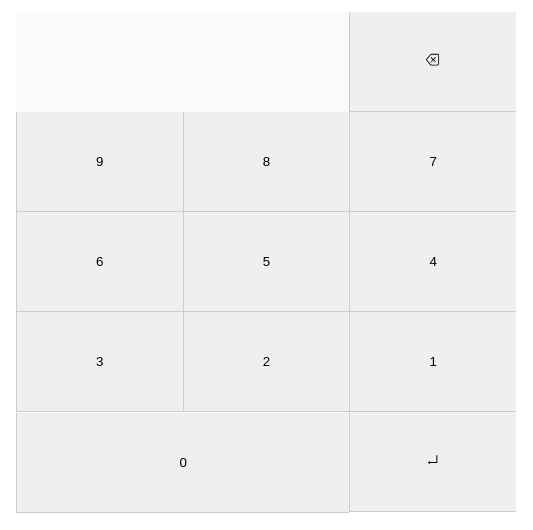
it: PinInput › should update the display with a masked value when button pressed
Click the button "1" at [433, 362], box [349, 312, 516, 412]
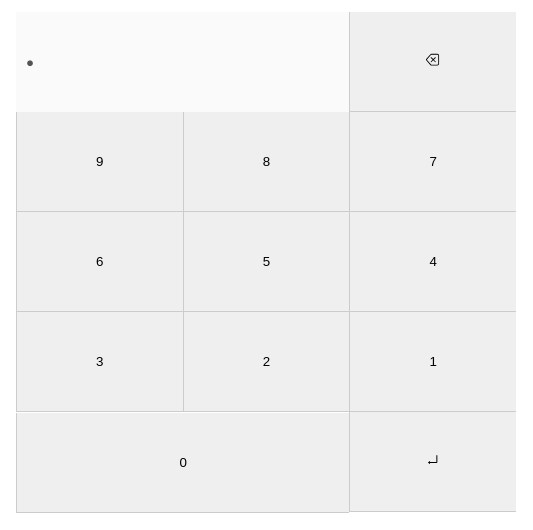
Expected: the field holds "●", [16, 12, 349, 112]
